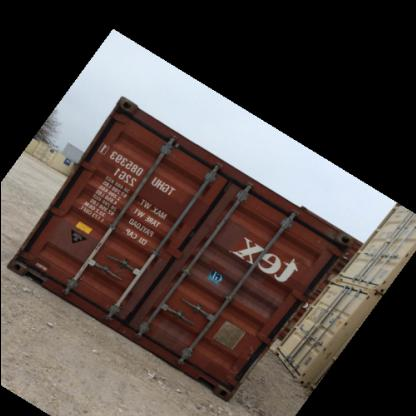Damage: (152, 312, 186, 356), (224, 358, 249, 384), (244, 339, 262, 363)
